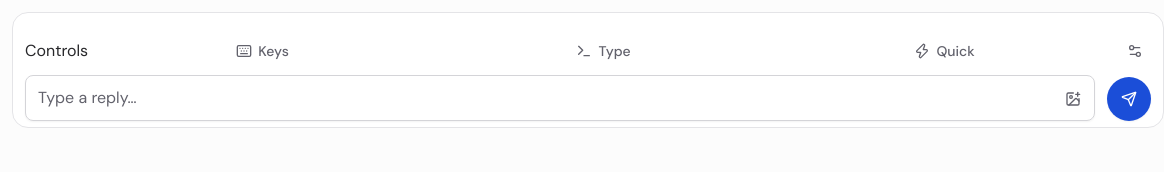
Composer — send › refuses to send while a dialog is on screen, and keeps the draft
Type "please do not approve anything" into the text box with placeholder "Type a reply…" at [560, 98], box [25,75,1095,121]
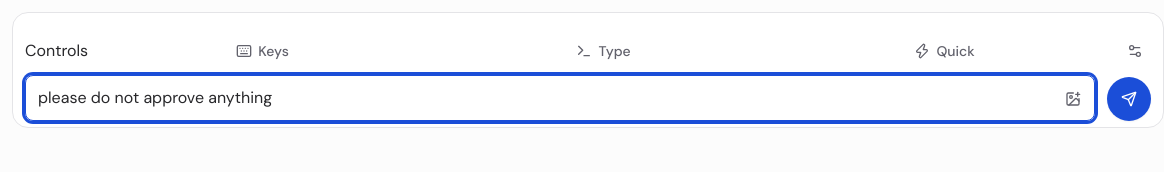
Click the button named "Send" at [1129, 99], box [1107,77,1151,121]
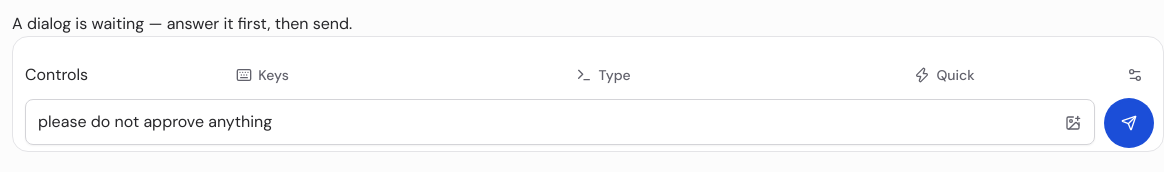
Result: the text with test id "status" shows "dialog is waiting" at [12,13,352,34]
